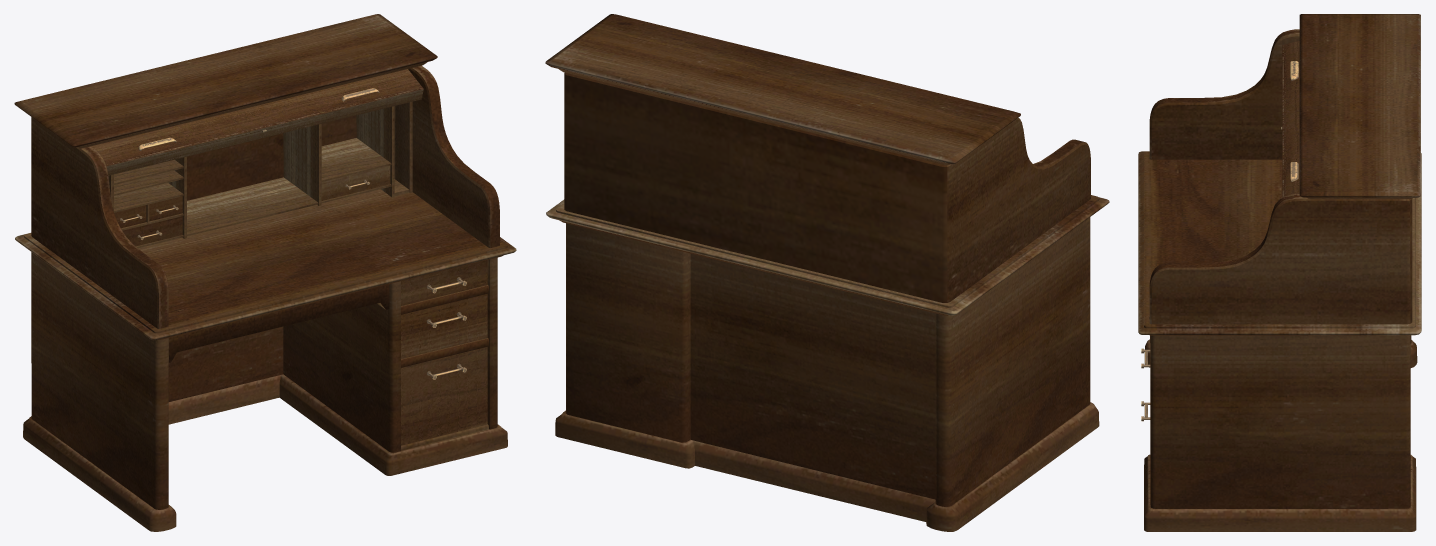
The model's file is 019_OfficeDesk.fbx.
3 views of the same model, side by side, from view 1: azimuth 30°, elevation 25°; view 2: azimuth 150°, elevation 25°; view 3: azimuth 270°, elevation 25° (orthographic). The views are drawn at different scales.
Parts seen in each view (by area): view 1: LOD_1_Group_0_Sub_2__sm30_019_OfficeDesk01A_B_Mat, LOD_1_Group_0_Sub_1__sm30_019_OfficeDesk01A_A_Mat; view 2: LOD_1_Group_0_Sub_2__sm30_019_OfficeDesk01A_B_Mat; view 3: LOD_1_Group_0_Sub_2__sm30_019_OfficeDesk01A_B_Mat, LOD_1_Group_0_Sub_1__sm30_019_OfficeDesk01A_A_Mat.
Boxes of the visible parts, left/top/right/bottom form: LOD_1_Group_0_Sub_2__sm30_019_OfficeDesk01A_B_Mat: left=14, top=14, right=516, bottom=531; LOD_1_Group_0_Sub_1__sm30_019_OfficeDesk01A_A_Mat: left=90, top=69, right=487, bottom=445; LOD_1_Group_0_Sub_2__sm30_019_OfficeDesk01A_B_Mat: left=545, top=14, right=1109, bottom=531; LOD_1_Group_0_Sub_2__sm30_019_OfficeDesk01A_B_Mat: left=1138, top=14, right=1421, bottom=531; LOD_1_Group_0_Sub_1__sm30_019_OfficeDesk01A_A_Mat: left=1141, top=41, right=1299, bottom=421.
Bounding box in the file's own units: 1.43 × 1.25 × 0.9392.
